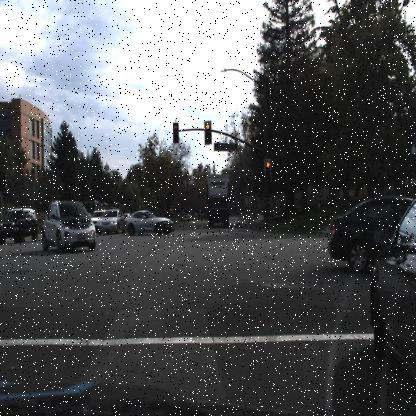car: (368, 189, 415, 411), (326, 193, 415, 279), (39, 198, 98, 255), (0, 207, 40, 244), (123, 210, 174, 237), (97, 208, 125, 235)
trafficLight-Red: (262, 158, 274, 187), (202, 118, 212, 146)
trafficLight-RedLeft: (172, 120, 180, 146)
truck: (205, 172, 231, 232), (206, 174, 230, 230)
